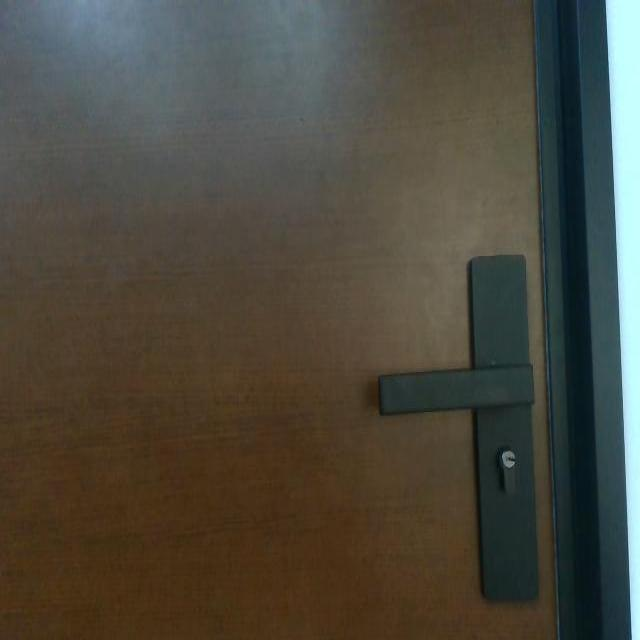doorhandle: (365, 353, 543, 426)
